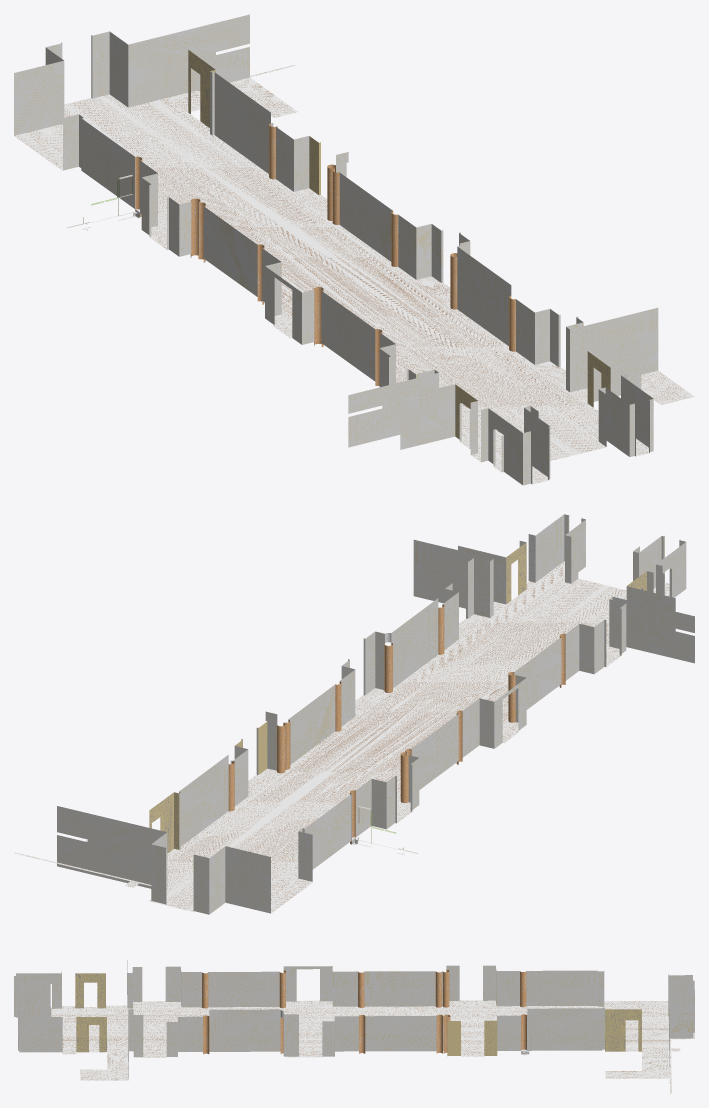
The model's file is COM042.obj.
3 views of the same model, one above another, from view 1: azimuth 30°, elevation 25°; view 2: azimuth 150°, elevation 25°; view 3: azimuth 270°, elevation 25° (orthographic). The views are drawn at different scales.
Visible parts, largest first — view 1: Mesh1 Group1 Model, Mesh3 Group1 Model; view 2: Mesh1 Group1 Model, Mesh3 Group1 Model; view 3: Mesh1 Group1 Model, Mesh3 Group1 Model.
Part boxes in pixels (x1,y1,x2,y2): Mesh1 Group1 Model: (14,42,694,485); Mesh3 Group1 Model: (91,14,249,107); Mesh1 Group1 Model: (14,514,694,914); Mesh3 Group1 Model: (57,806,167,904); Mesh1 Group1 Model: (14,960,694,1093); Mesh3 Group1 Model: (669,990,694,1065).
Size of the model in its own units: 21.06 by 3.85 by 52.56.
Materials: 11 (3 with a texture image).
